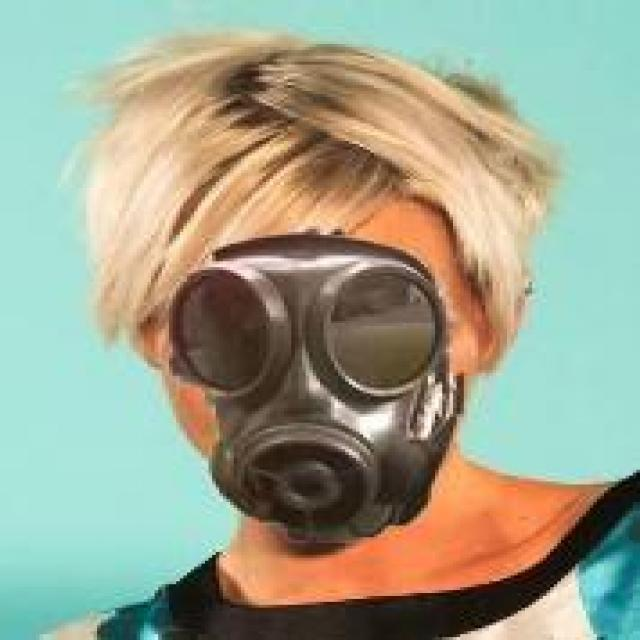mask: (83, 47, 525, 552)
